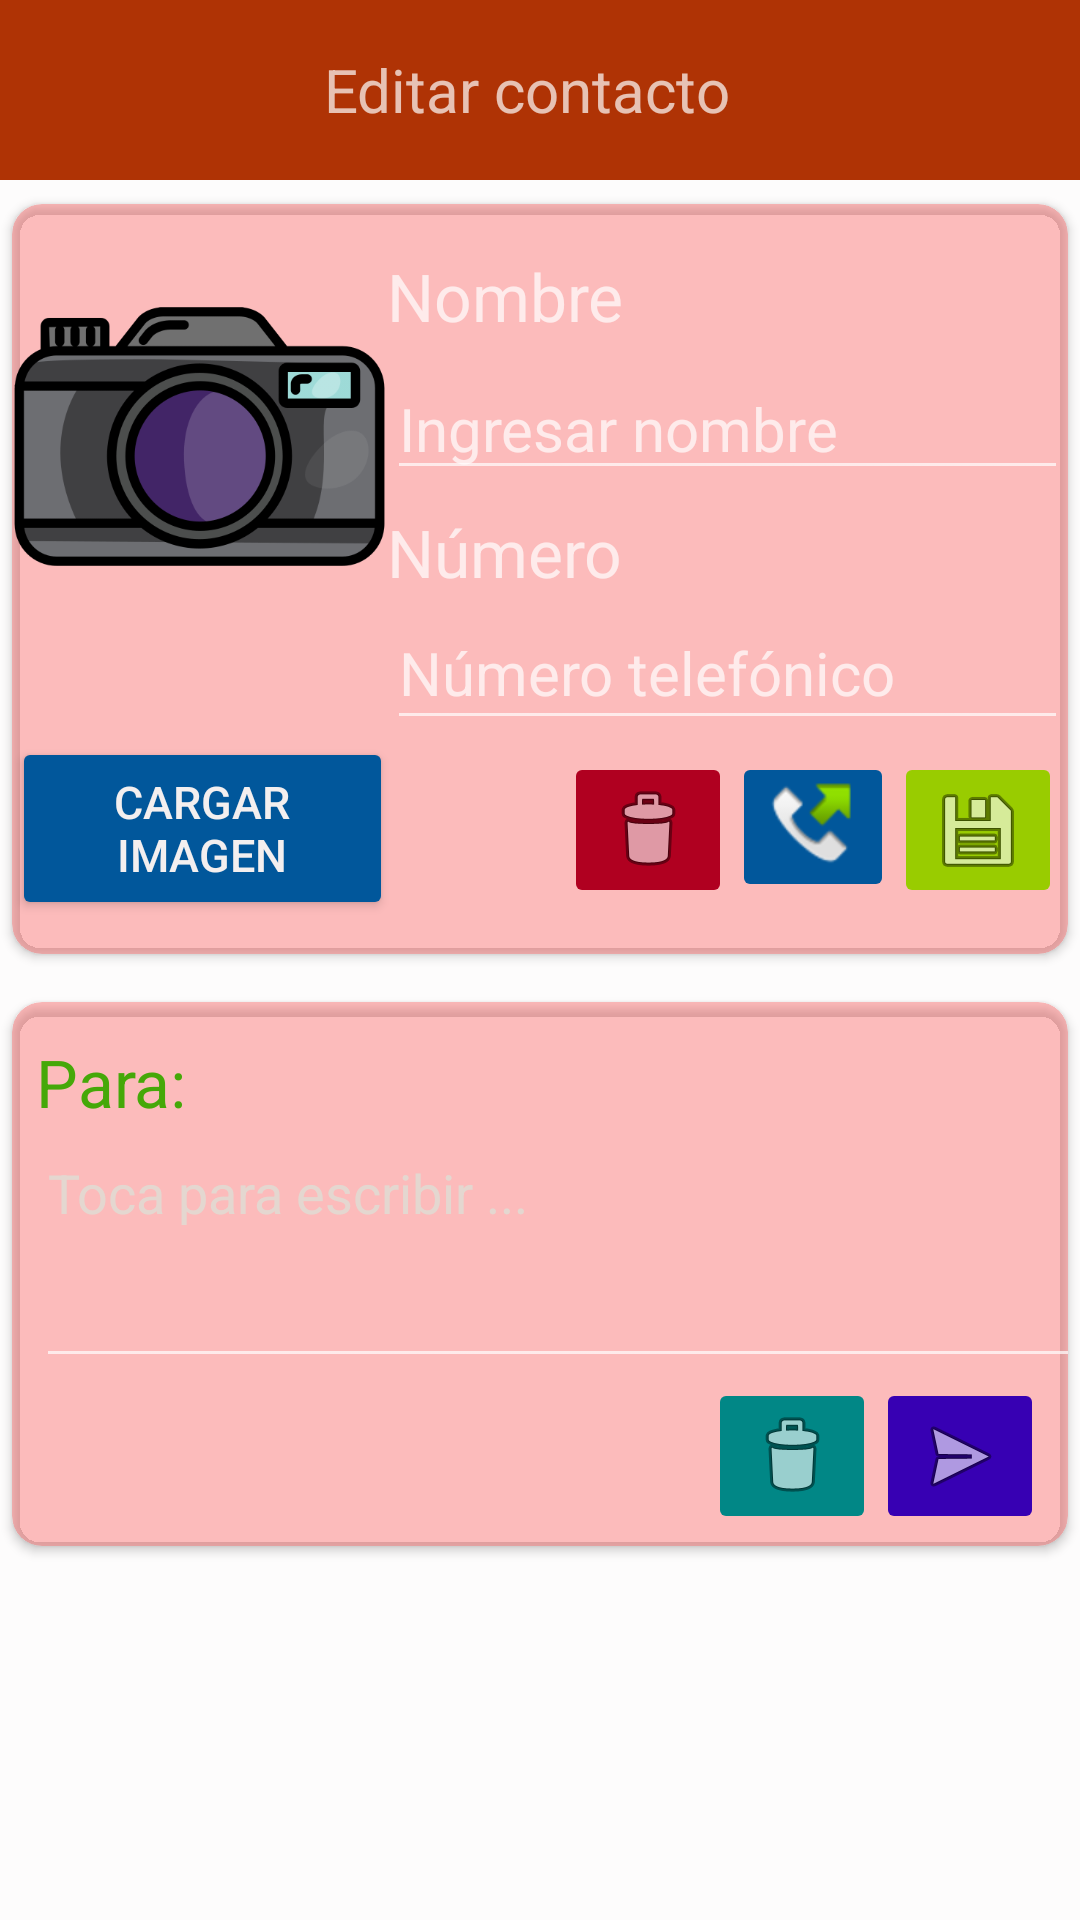

Named icons in this screenshot (1080px x 1920px) and their bounding boxes, (x1, y1, x2, y2):
delete: (576, 770, 720, 890), (720, 1396, 864, 1516)
save: (906, 770, 1050, 890)
send: (888, 1396, 1032, 1516)
sym call outgoing: (744, 770, 882, 884)
